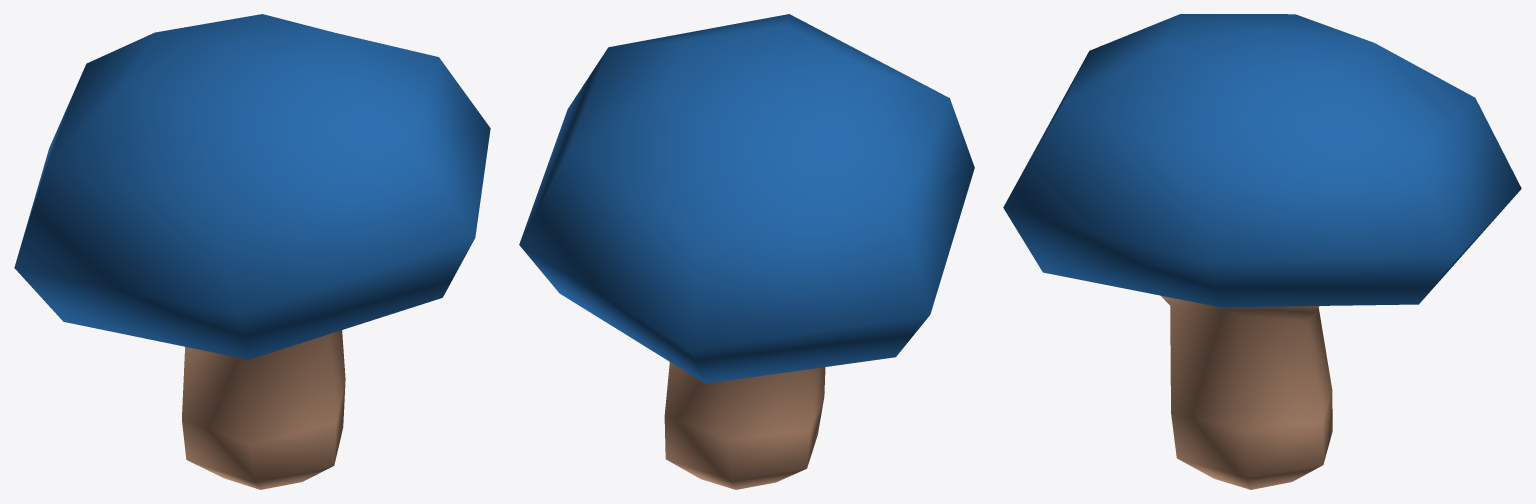
File: mogu.fbx
The picture shows the model from 3 angles, left to right: view 1: azimuth 30°, elevation 25°; view 2: azimuth 150°, elevation 25°; view 3: azimuth 270°, elevation 25°; orthographic projection. The views are drawn at different scales.
Visible parts, largest first — view 1: mogu; view 2: mogu; view 3: mogu.
Part boxes in pixels (x1,y1,x2,y2): mogu: [14, 14, 490, 489]; mogu: [519, 14, 974, 489]; mogu: [1003, 14, 1521, 489].
Size of the model in its own units: 0.7736 by 0.7464 by 0.8213.
